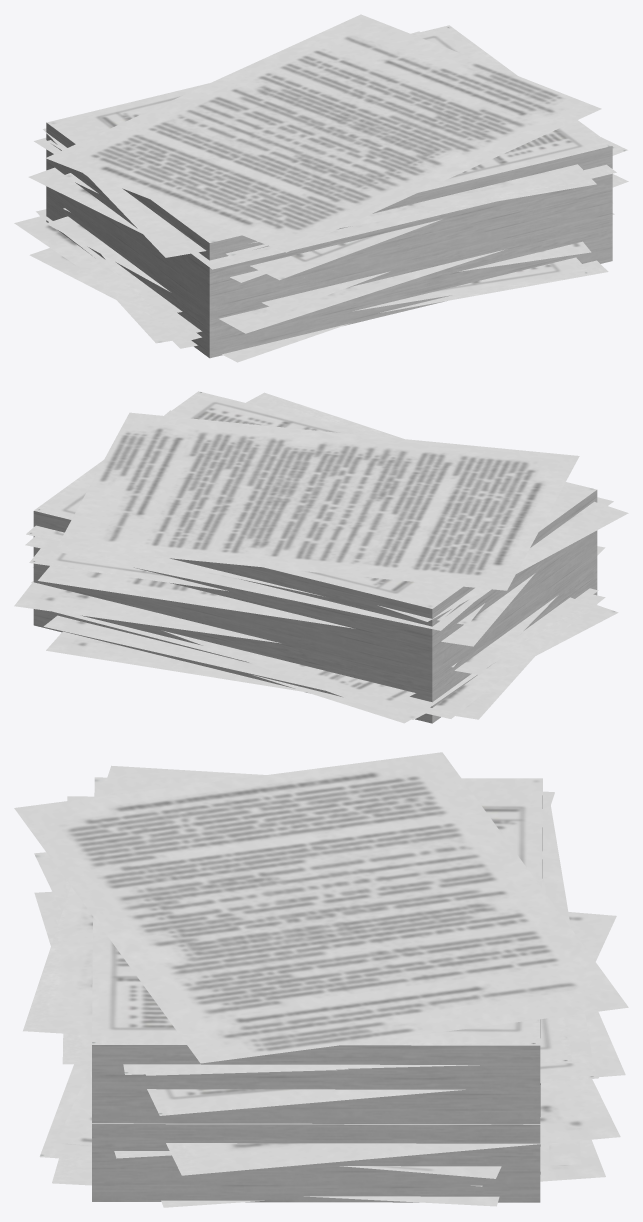
Rendered from SM_prop_Laboratory_Paper_Pile_02.fbx.
3 views of the same model, one above another, from view 1: azimuth 30°, elevation 25°; view 2: azimuth 150°, elevation 25°; view 3: azimuth 270°, elevation 25° (orthographic). The views are drawn at different scales.
Parts seen in each view (by area): view 1: SM_prop_Laboratory_Paper_Pile_02; view 2: SM_prop_Laboratory_Paper_Pile_02; view 3: SM_prop_Laboratory_Paper_Pile_02.
Part boxes in pixels (box(x1,y1,x2,y2)): SM_prop_Laboratory_Paper_Pile_02: box(14, 14, 628, 362); SM_prop_Laboratory_Paper_Pile_02: box(14, 391, 628, 723); SM_prop_Laboratory_Paper_Pile_02: box(14, 752, 628, 1207).
Size of the model in its own units: 42.24 by 9.55 by 33.73.
Materials: 1 (1 with a texture image).
